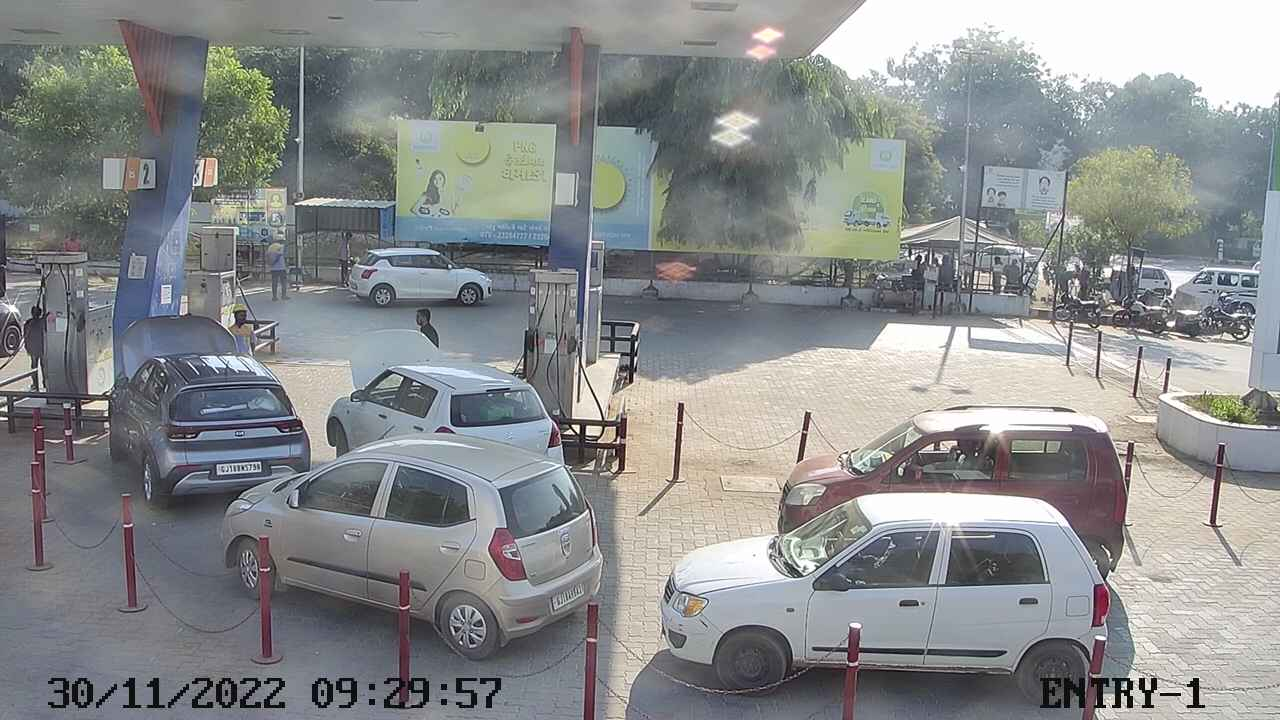Bike: (1185, 294, 1257, 344), (1152, 284, 1211, 343), (1109, 288, 1173, 338), (1047, 275, 1102, 331), (1214, 284, 1257, 332)
Car: (668, 461, 1130, 715), (226, 422, 608, 664), (785, 394, 1141, 585), (100, 310, 314, 510), (322, 325, 570, 476), (345, 233, 493, 315), (1171, 262, 1260, 325), (959, 240, 1040, 279), (0, 282, 27, 374), (1132, 259, 1173, 304)
Others: (259, 228, 292, 308), (219, 297, 259, 361)
